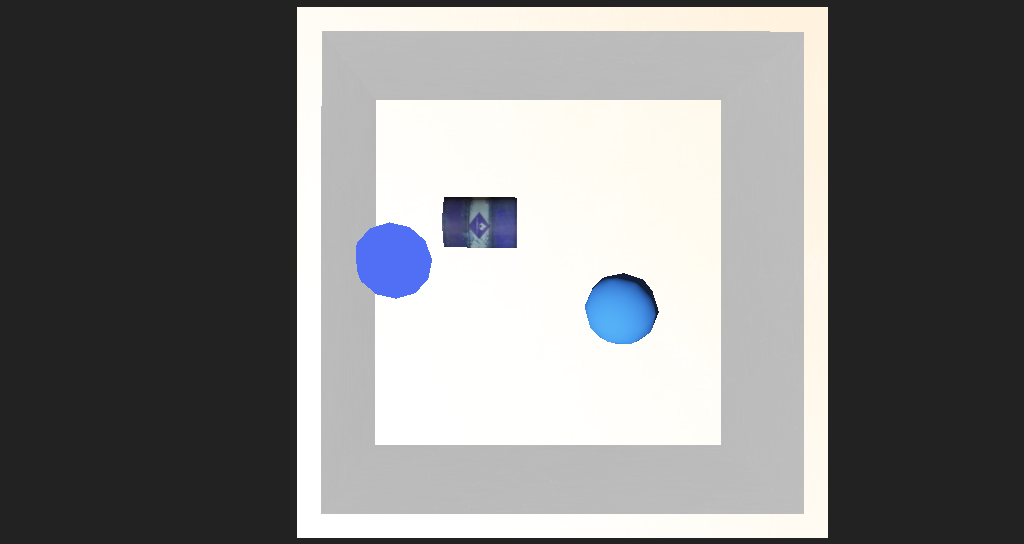cone: (411, 222, 478, 255)
cylinder: (330, 224, 411, 282)
sphere: (532, 270, 600, 313)
